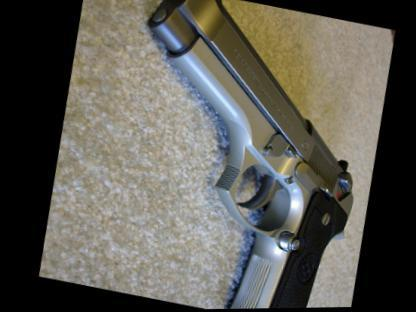pistol: (86, 0, 394, 310)
